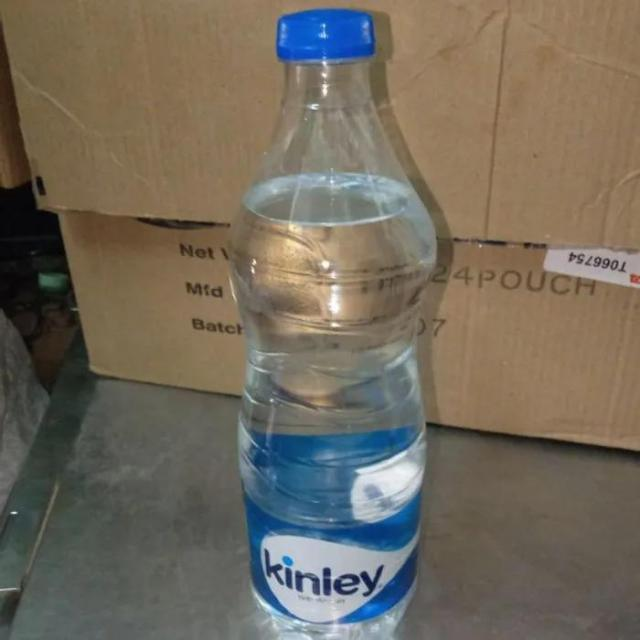bottle: (199, 0, 452, 616)
